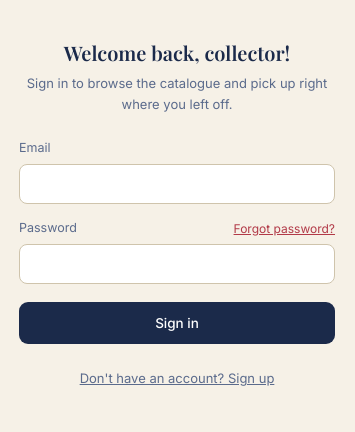
Login — sign-in › does NOT sign out on a role-lookup RPC failure — shows a distinct message and leaves the session alone
In the field labelled "Email": (177, 184) 19,164 -> 335,204, type "collector@example.test"
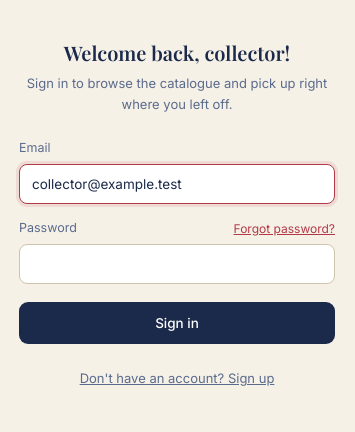
In the password field labelled "Password": (177, 264) 19,244 -> 335,284, type "a-password"
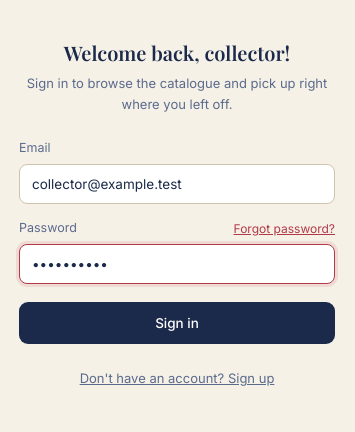
Click the button "Sign in": (177, 323) 19,302 -> 335,344
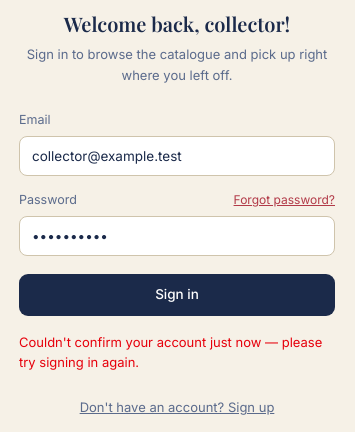
Expected: the text "Couldn't confirm your account" is shown, 19,334 -> 322,370
